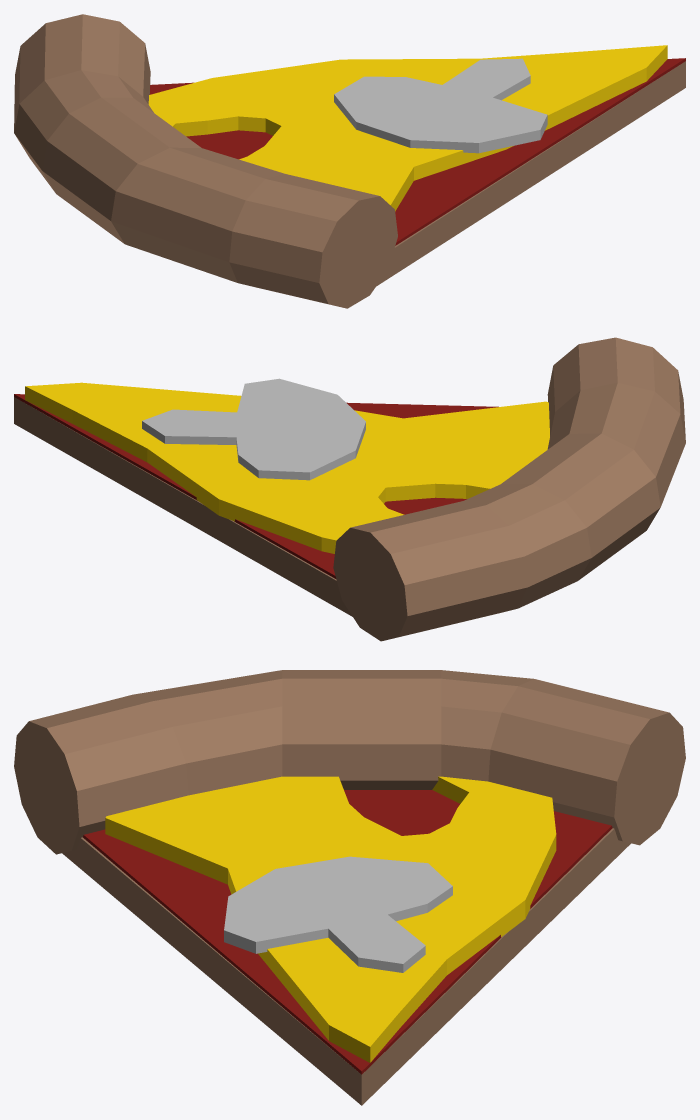
Rendered from pizzka.fbx.
3 renders of one model, top to bottom at view 1: azimuth 30°, elevation 25°; view 2: azimuth 150°, elevation 25°; view 3: azimuth 270°, elevation 25°, orthographic. The views are drawn at different scales.
Parts seen in each view (by area): view 1: Cylinder.004; view 2: Cylinder.004; view 3: Cylinder.004.
Part boxes in pixels (bbox=[...]): Cylinder.004: bbox=[14, 14, 685, 308]; Cylinder.004: bbox=[14, 337, 685, 641]; Cylinder.004: bbox=[14, 670, 685, 1105].
Size of the model in its own units: 494 by 78.56 by 406.
